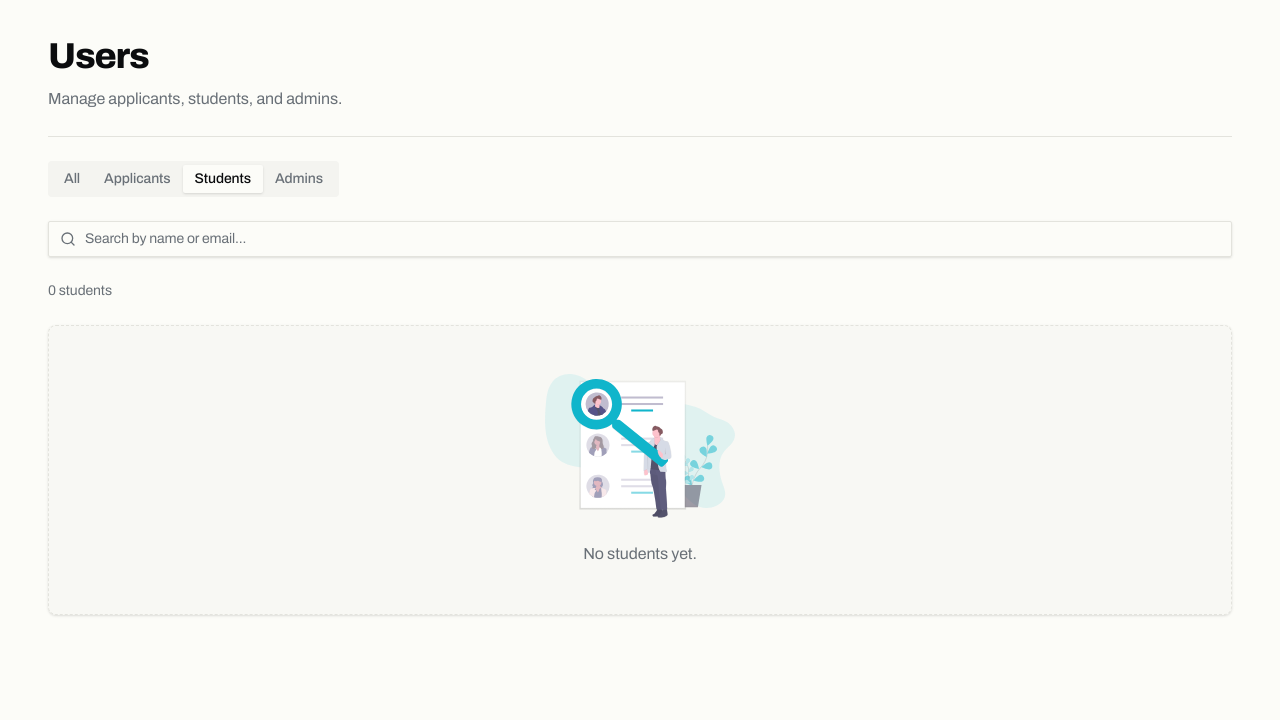
admin users page › shows everyone on the All tab
Click the tab "All" at [72, 179], box [52,165,92,193]
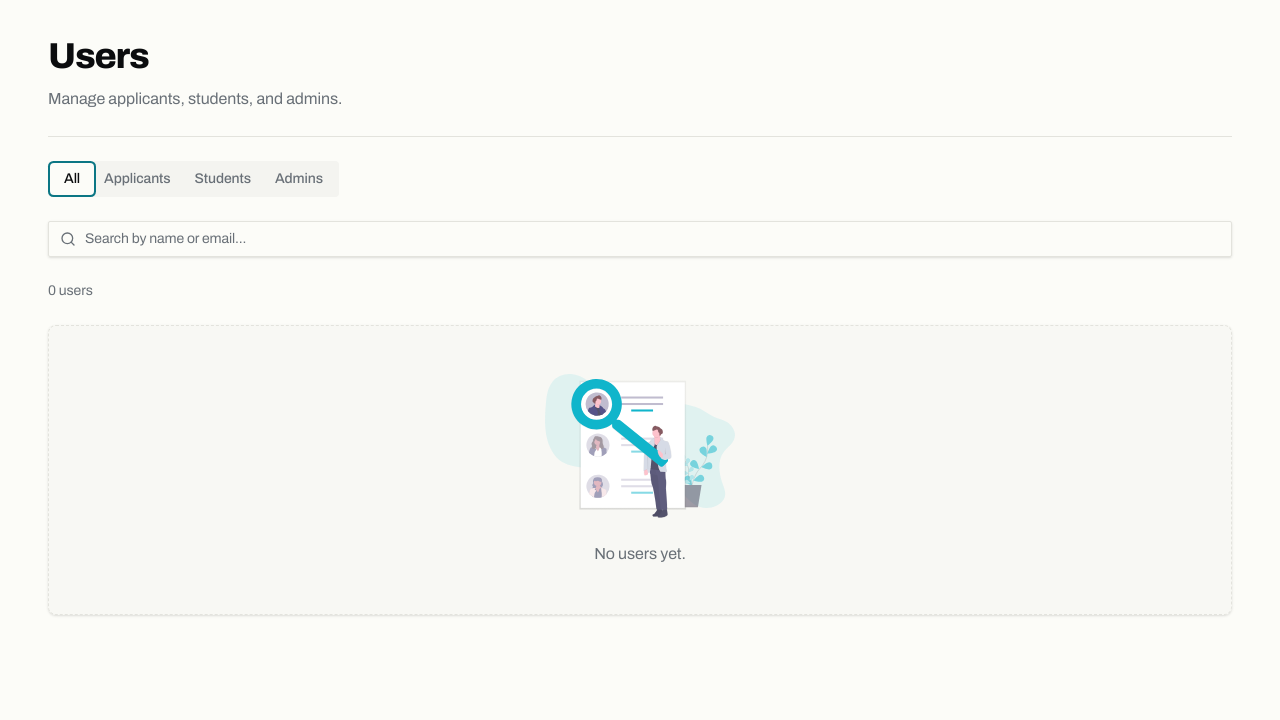
expect the text "No users yet." is shown: met, box [545,374,735,562]
